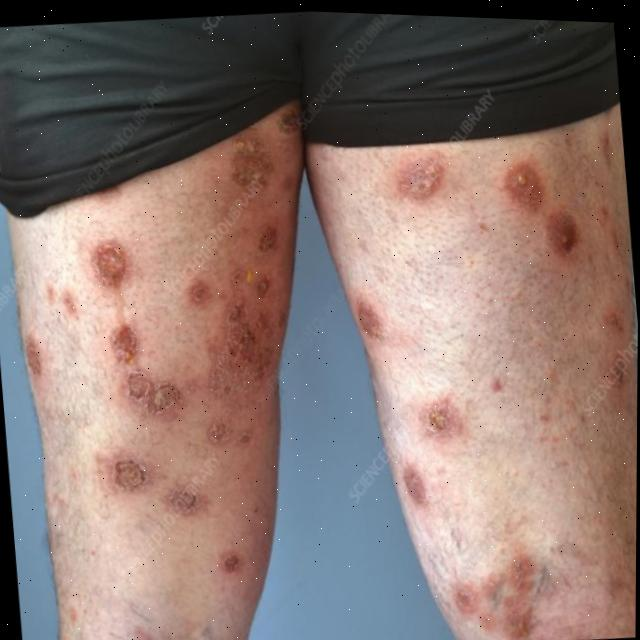Eczema: (332, 166, 638, 640), (64, 196, 275, 596)
